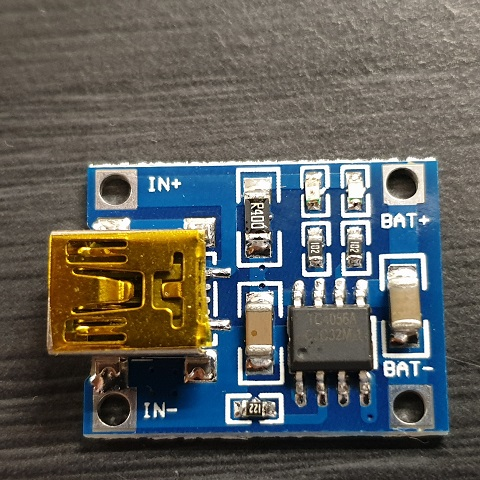batt+: (374, 162, 424, 202)
batt-: (388, 383, 429, 427)
charge: (304, 162, 328, 218)
done: (337, 158, 372, 222)
rprog: (229, 391, 276, 426)
usb: (48, 230, 205, 354)
